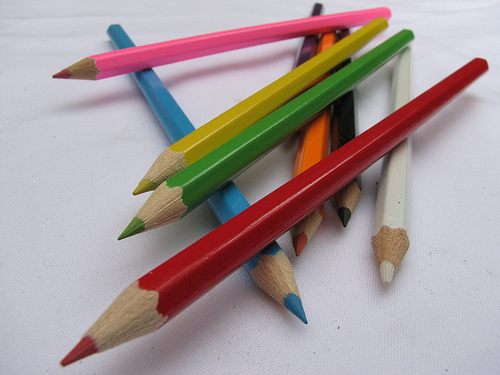pen_tip: (31, 269, 183, 375), (115, 182, 195, 245), (40, 43, 134, 94)
